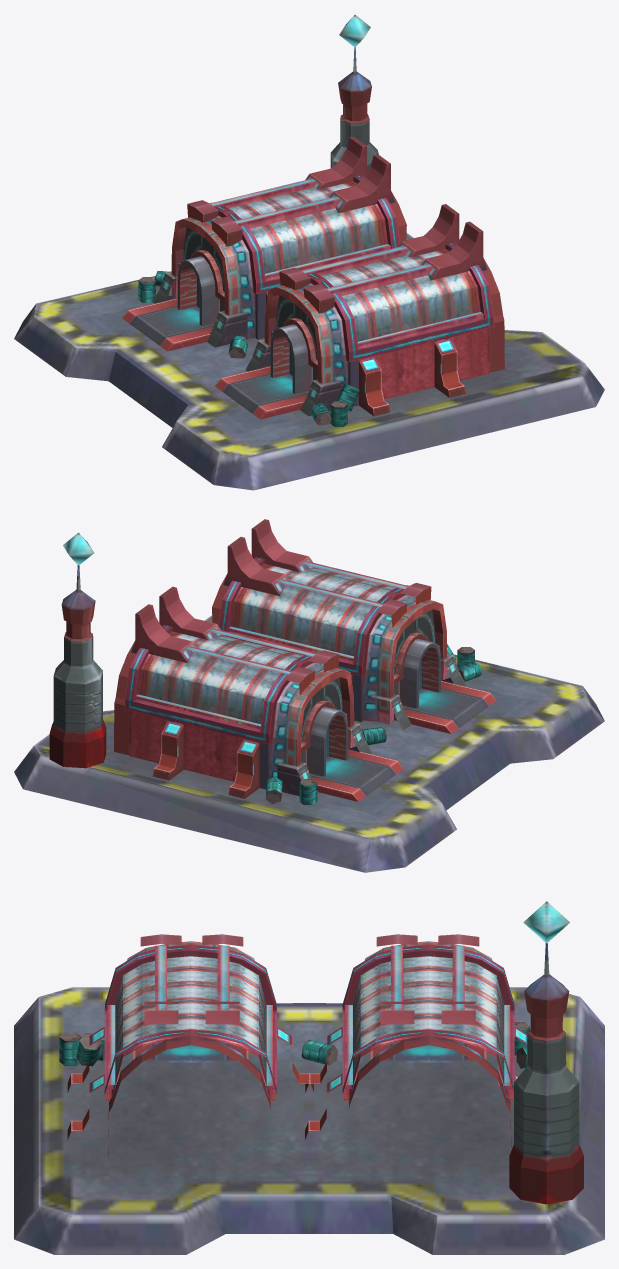
3 renders of one model, top to bottom at view 1: azimuth 30°, elevation 25°; view 2: azimuth 150°, elevation 25°; view 3: azimuth 270°, elevation 25°, orthographic. The views are drawn at different scales.
Parts seen in each view (by area): view 1: build19_3; view 2: build19_3; view 3: build19_3.
Part boxes in pixels (x1,y1,x2,y2): build19_3: (14, 15, 604, 490); build19_3: (14, 519, 604, 872); build19_3: (14, 901, 604, 1254).
Size of the model in its own units: 10.96 by 6.64 by 11.19.
Materials: 1 (1 with a texture image).
